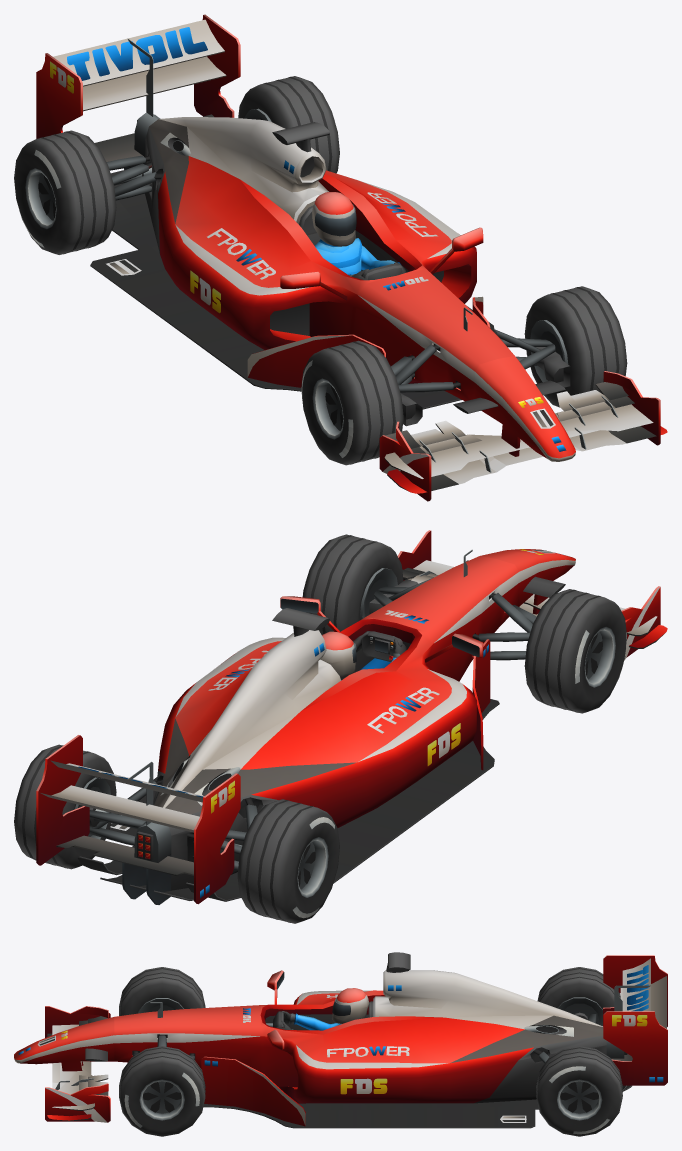
Rendered from Race_Car_5A.fbx.
The picture shows the model from 3 angles, top to bottom: view 1: azimuth 30°, elevation 25°; view 2: azimuth 150°, elevation 25°; view 3: azimuth 270°, elevation 25°; orthographic projection. The views are drawn at different scales.
Parts seen in each view (by area): view 1: Race_Car_5A_Body, Race_Car_5A_Front_Wing, Race_Car_5A_Rear_Wing, Wheel_5A_R.R, Wheel_5A_F.R, Wheel_5A_F.L, Race_Car_5A_Nose, Wheel_5A_R.L, Race_Car_5A_Rear_Wing_Livery, Race_Car_5A_Body_Livery, Helmet_5A, Wheel_Pivot_5A_F.L (+5 smaller); view 2: Race_Car_5A_Body, Race_Car_5A_Rear_Wing, Wheel_5A_F.R, Wheel_5A_R.R, Wheel_5A_F.L, Wheel_5A_R.L, Race_Car_5A_Front_Wing, Race_Car_5A_Nose, Race_Car_5A_Body_Livery, Suspension_5A_F.R, Suspension_5A_R.L, Helmet_5A (+6 smaller); view 3: Race_Car_5A_Body, Race_Car_5A_Rear_Wing, Wheel_5A_R.L, Wheel_5A_F.L, Race_Car_5A_Front_Wing, Race_Car_5A_Nose, Wheel_5A_F.R, Wheel_5A_R.R, Race_Car_5A_Body_Livery, Race_Car_5A_Rear_Wing_Livery, Helmet_5A, Wheel_Pivot_5A_R.R (+3 smaller).
Part boxes in pixels (x1,y1,x2,y2): Race_Car_5A_Body: [90, 112, 516, 409]; Race_Car_5A_Front_Wing: [379, 371, 667, 501]; Race_Car_5A_Rear_Wing: [36, 14, 240, 161]; Wheel_5A_R.R: [14, 130, 116, 254]; Wheel_5A_F.R: [301, 340, 403, 465]; Wheel_5A_F.L: [524, 286, 627, 407]; Race_Car_5A_Nose: [453, 356, 575, 461]; Wheel_5A_R.L: [238, 76, 339, 173]; Race_Car_5A_Rear_Wing_Livery: [50, 27, 207, 93]; Race_Car_5A_Body_Livery: [106, 160, 437, 313]; Helmet_5A: [312, 192, 356, 246]; Wheel_Pivot_5A_F.L: [530, 320, 570, 387]; Race_Car_5A_Body: [78, 549, 519, 904]; Race_Car_5A_Rear_Wing: [36, 735, 240, 904]; Wheel_5A_F.R: [524, 589, 627, 713]; Wheel_5A_R.R: [237, 799, 339, 923]; Wheel_5A_F.L: [302, 534, 403, 634]; Wheel_5A_R.L: [14, 744, 116, 869]; Race_Car_5A_Front_Wing: [397, 530, 667, 660]; Race_Car_5A_Nose: [466, 549, 575, 614]; Race_Car_5A_Body_Livery: [110, 610, 488, 830]; Suspension_5A_F.R: [472, 593, 536, 660]; Suspension_5A_R.L: [89, 779, 162, 845]; Helmet_5A: [320, 631, 356, 678]; Race_Car_5A_Body: [114, 952, 631, 1128]; Race_Car_5A_Rear_Wing: [603, 955, 667, 1085]; Wheel_5A_R.L: [536, 1046, 622, 1136]; Wheel_5A_F.L: [119, 1046, 205, 1136]; Race_Car_5A_Front_Wing: [45, 1006, 110, 1122]; Race_Car_5A_Nose: [14, 1017, 114, 1071]; Wheel_5A_F.R: [119, 967, 205, 1015]; Wheel_5A_R.R: [537, 967, 620, 1008]; Race_Car_5A_Body_Livery: [204, 985, 526, 1122]; Race_Car_5A_Rear_Wing_Livery: [612, 965, 663, 1082]; Helmet_5A: [332, 988, 369, 1023]; Wheel_Pivot_5A_R.R: [557, 997, 602, 1026].
Bounding box in the file's own units: 227 × 141 × 636.
